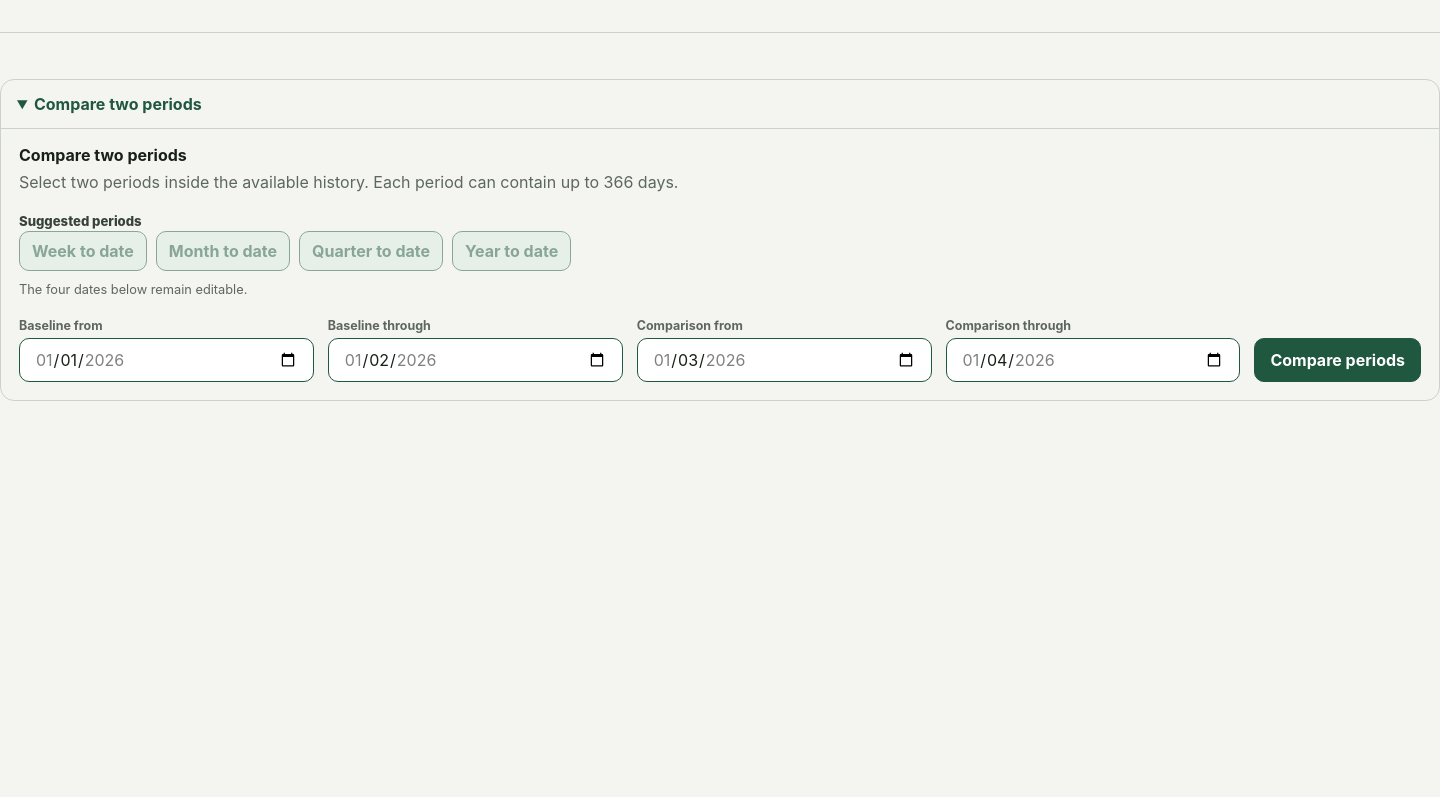
Test case: ActivityComparisonPanel › keeps independent origins separate and reveals exact evidence deliberately
Click the button "Compare periods": [1338, 360] box [1254, 338, 1421, 382]
(page scrolled)
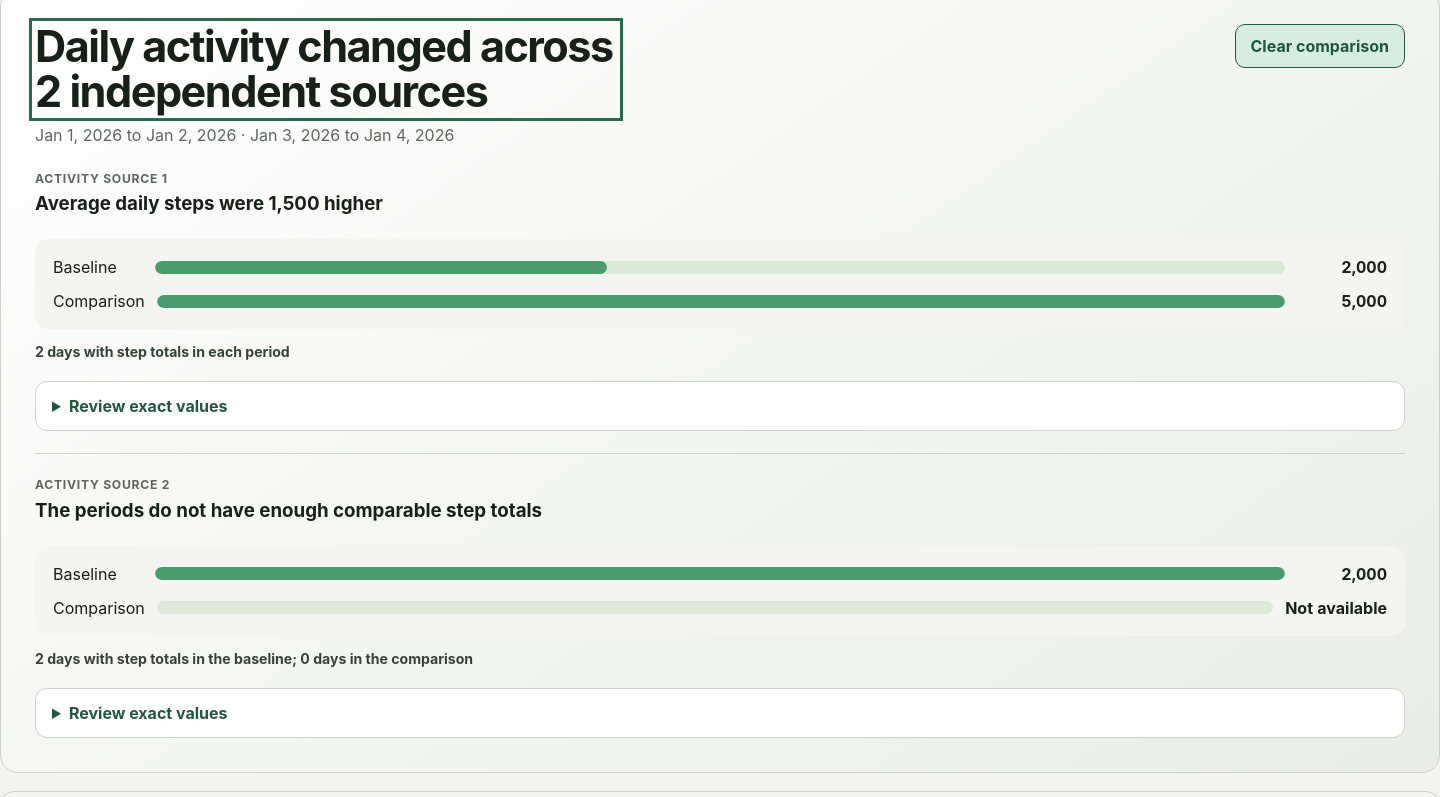
Result: the heading "Daily activity changed across 2 independent sources" is shown at [35, 24, 617, 115]
Result: the heading "Average daily steps were 1,500 higher" is shown at [35, 192, 383, 215]
Result: the heading "The periods do not have enough comparable step totals" is shown at [35, 499, 542, 522]
Click the heading "Review exact values" below "2 days with step totals in each period": [148, 406] box [69, 396, 227, 416]
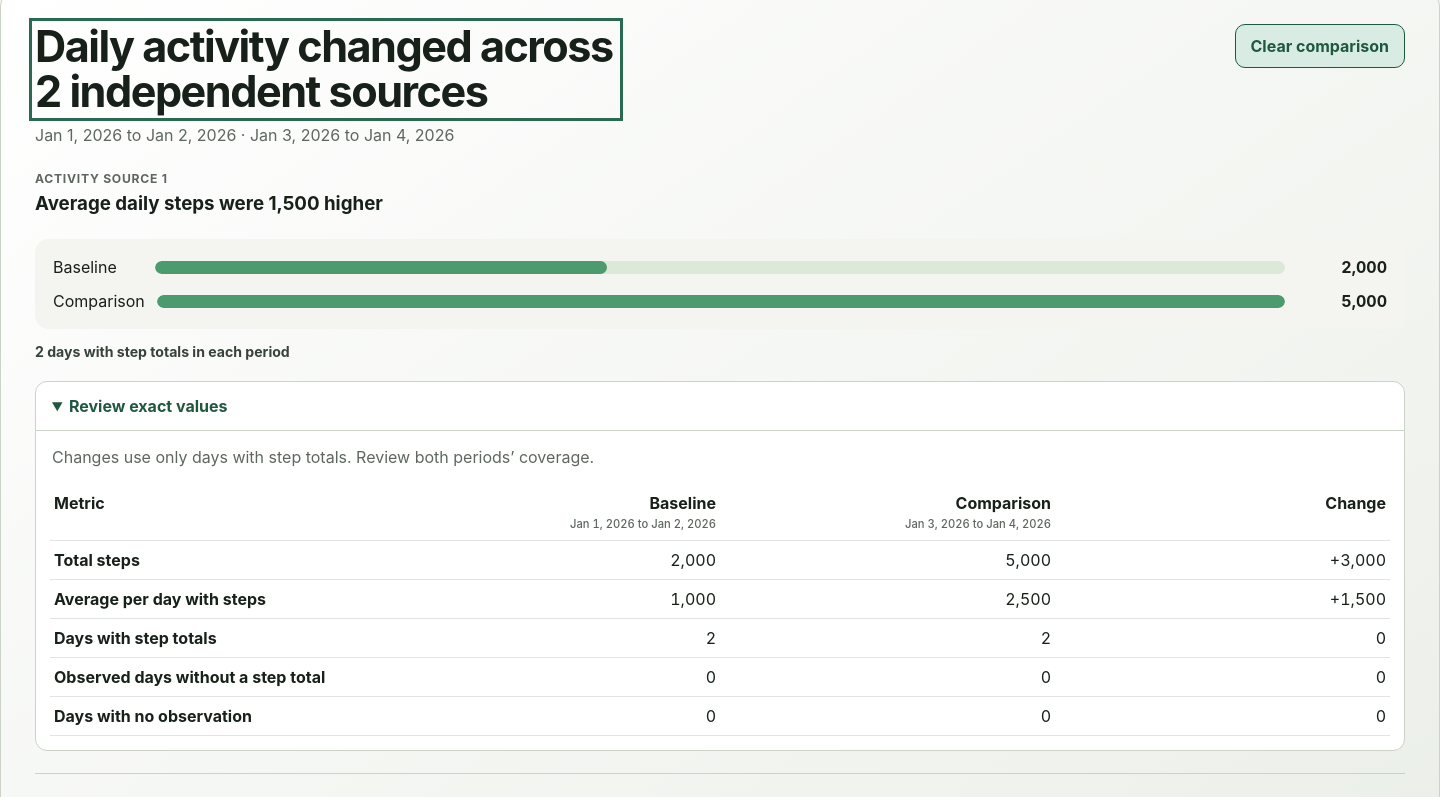
Result: the table named "Period comparison" is shown at [36, 470, 1404, 750]
